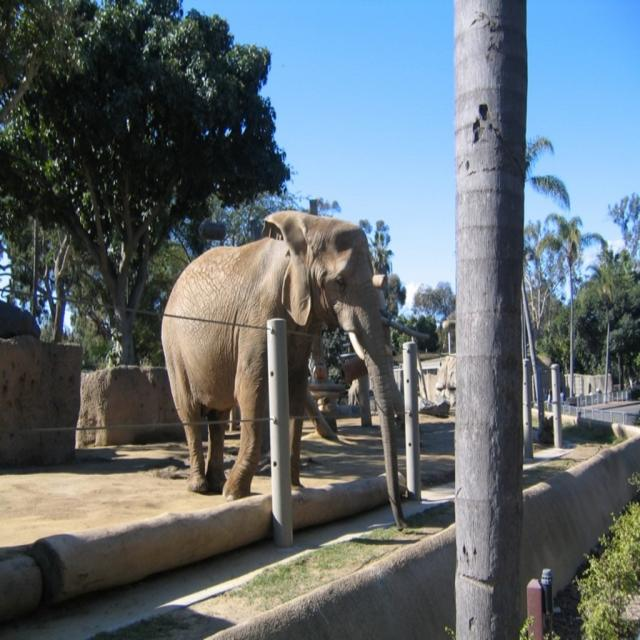elephant: (160, 210, 404, 528)
